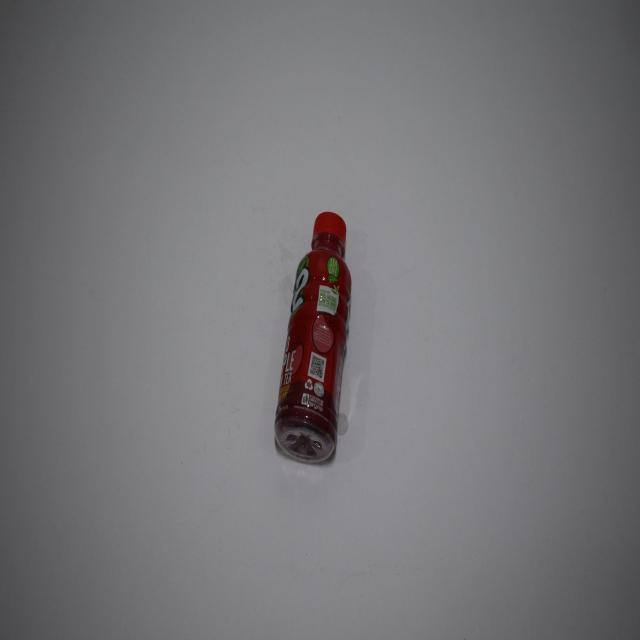bottle: (270, 197, 359, 470)
